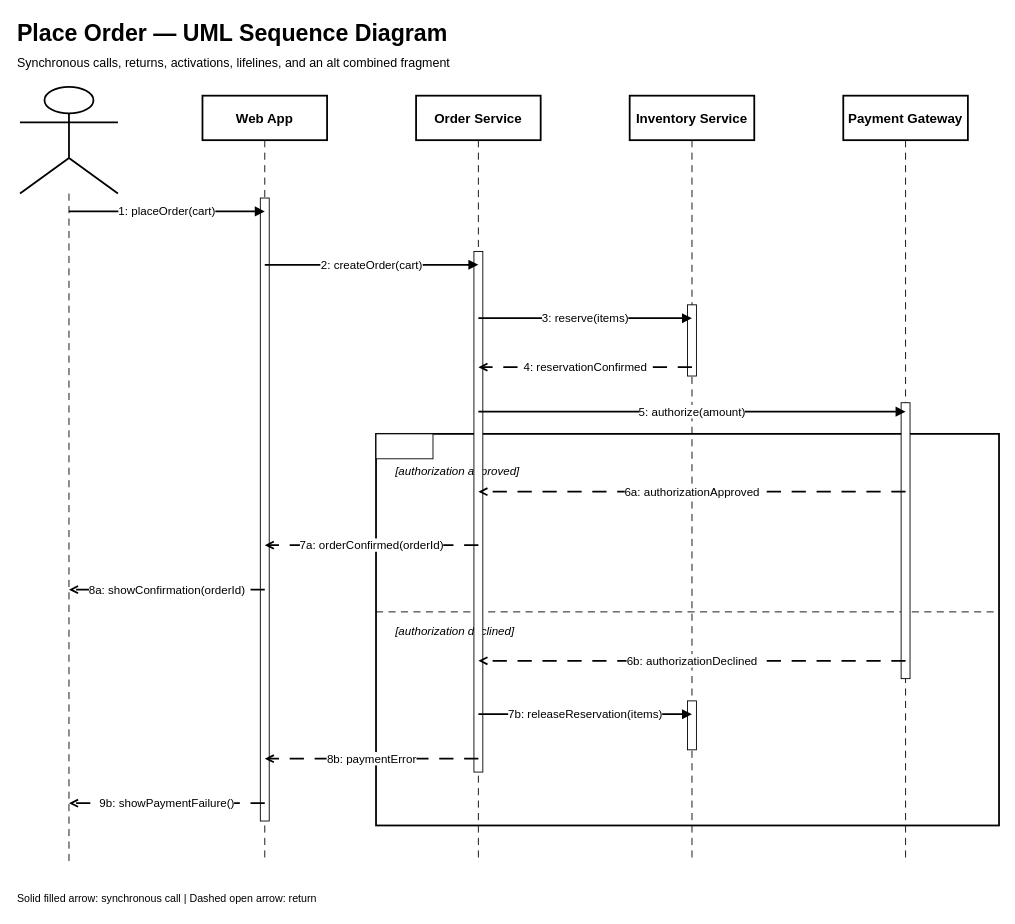
Image size: 1015x924. Some labels were removed from this diagram. The centre of each missing label's shape, as x and y in pixels:
"alt" goes at point 404,446.
"Customer" goes at point 68,139.
